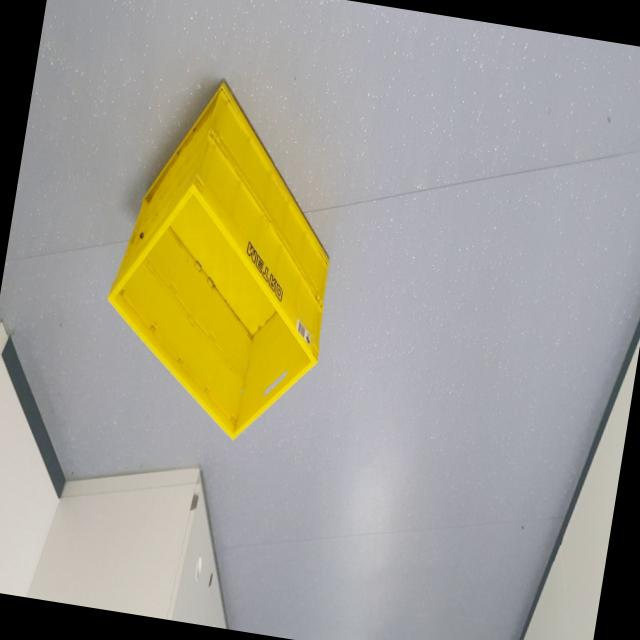box: (68, 56, 366, 459)
